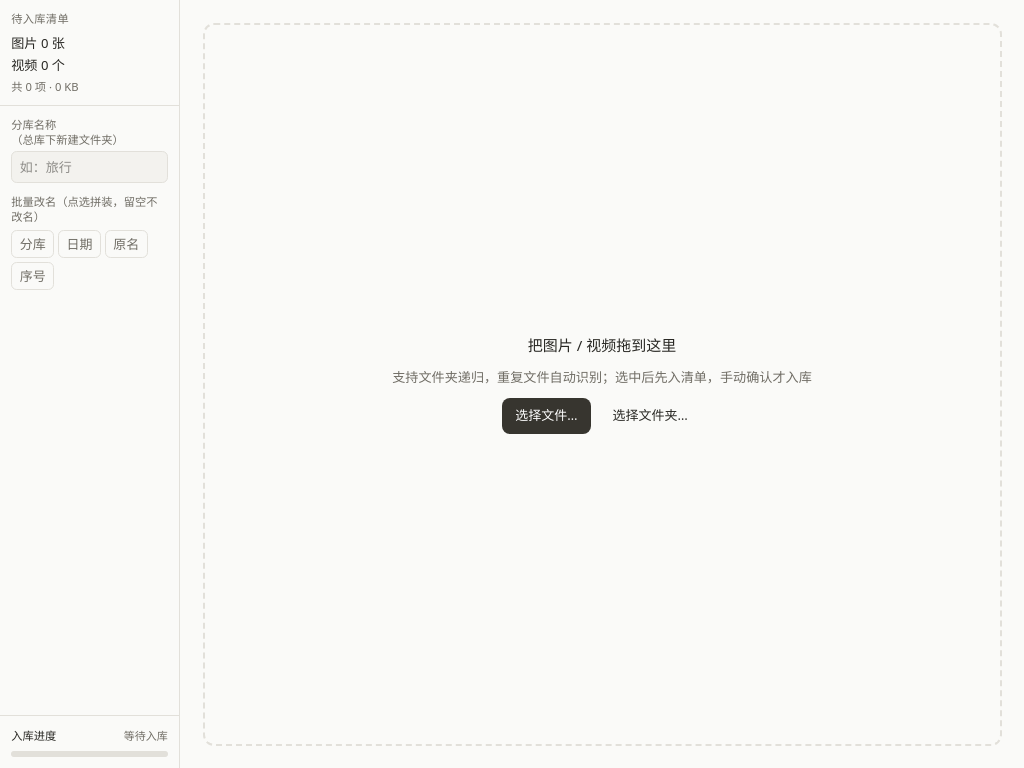
Test: ImportPage › 无法生成缩略图的文件先拦截，确认剔除后保留可导入项
The image size is (1024, 768).
Click the button "选择文件…" at (546, 416), box [502, 398, 591, 434]
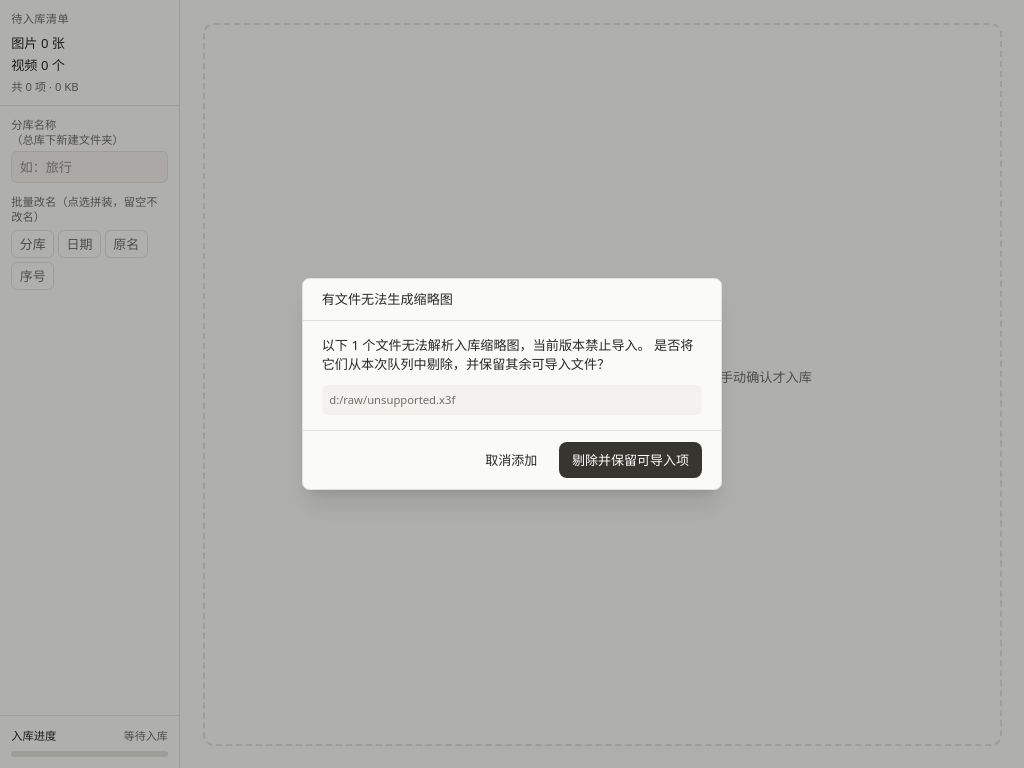
Check: the dialog "有文件无法生成缩略图" is shown, box [302, 278, 722, 490]
Check: the list item "d:/raw/unsupported.x3f" is shown, box [329, 392, 455, 407]
Click the button "剔除并保留可导入项" at (631, 460), box [559, 442, 702, 478]
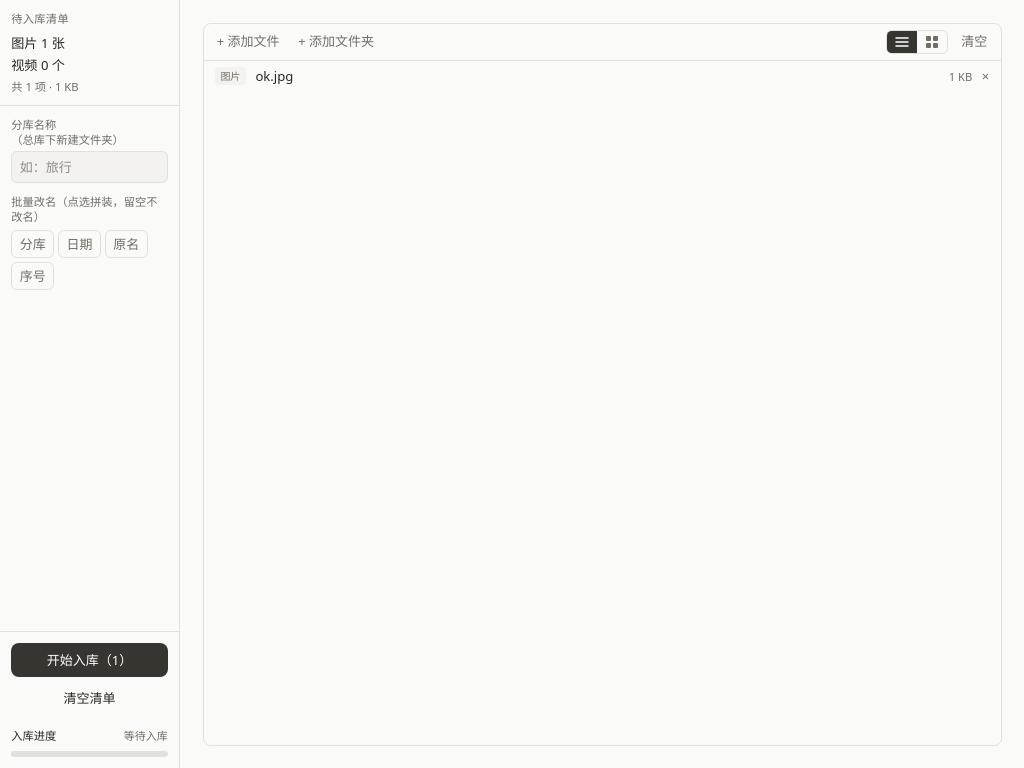
Check: the text "有文件无法生成缩略图" is gone
Check: the button "开始入库（1）" is shown, box [11, 643, 168, 677]
